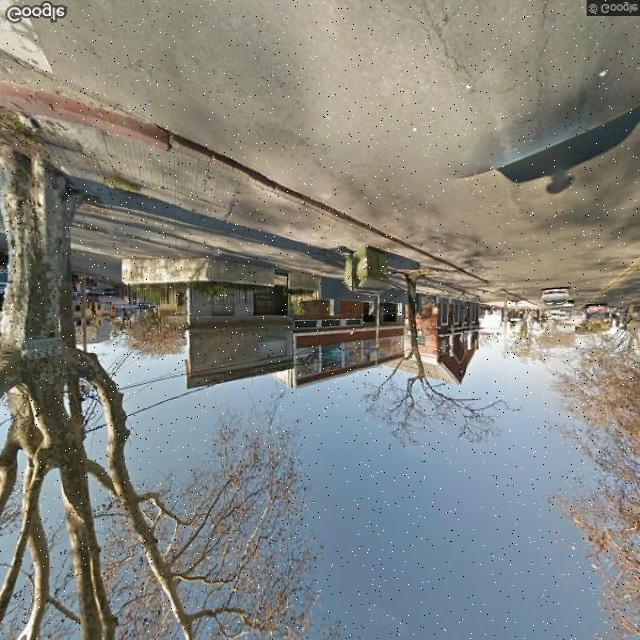garbage container: (337, 239, 400, 304)
